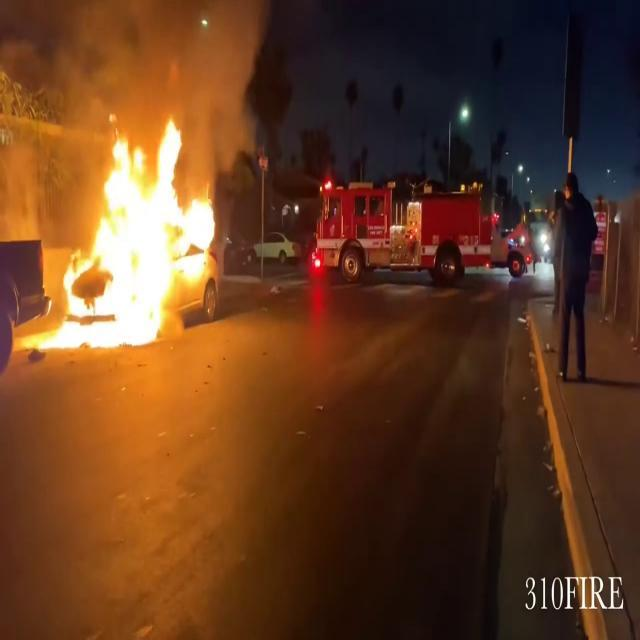Fire: (42, 110, 225, 352)
Smoke: (1, 0, 298, 146)
